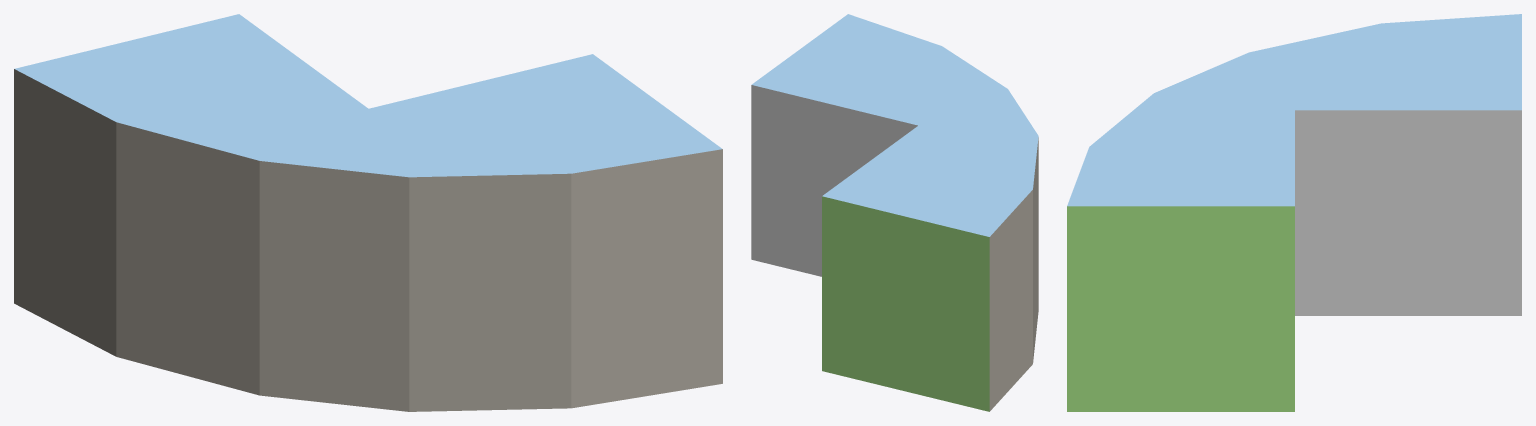
File: Wall_Curve_Outer_3x3_Mid.glb
The picture shows the model from 3 angles, left to right: view 1: azimuth 30°, elevation 25°; view 2: azimuth 150°, elevation 25°; view 3: azimuth 270°, elevation 25°; orthographic projection. The views are drawn at different scales.
Parts seen in each view (by area): view 1: Wall_Curve_Outer_3x3_Mid; view 2: Wall_Curve_Outer_3x3_Mid; view 3: Wall_Curve_Outer_3x3_Mid.
Boxes of the visible parts, x1,y1,x2,y2 form: Wall_Curve_Outer_3x3_Mid: [14, 14, 722, 411]; Wall_Curve_Outer_3x3_Mid: [751, 14, 1038, 411]; Wall_Curve_Outer_3x3_Mid: [1067, 14, 1521, 411].
Size of the model in its own units: 200 by 100 by 200.
